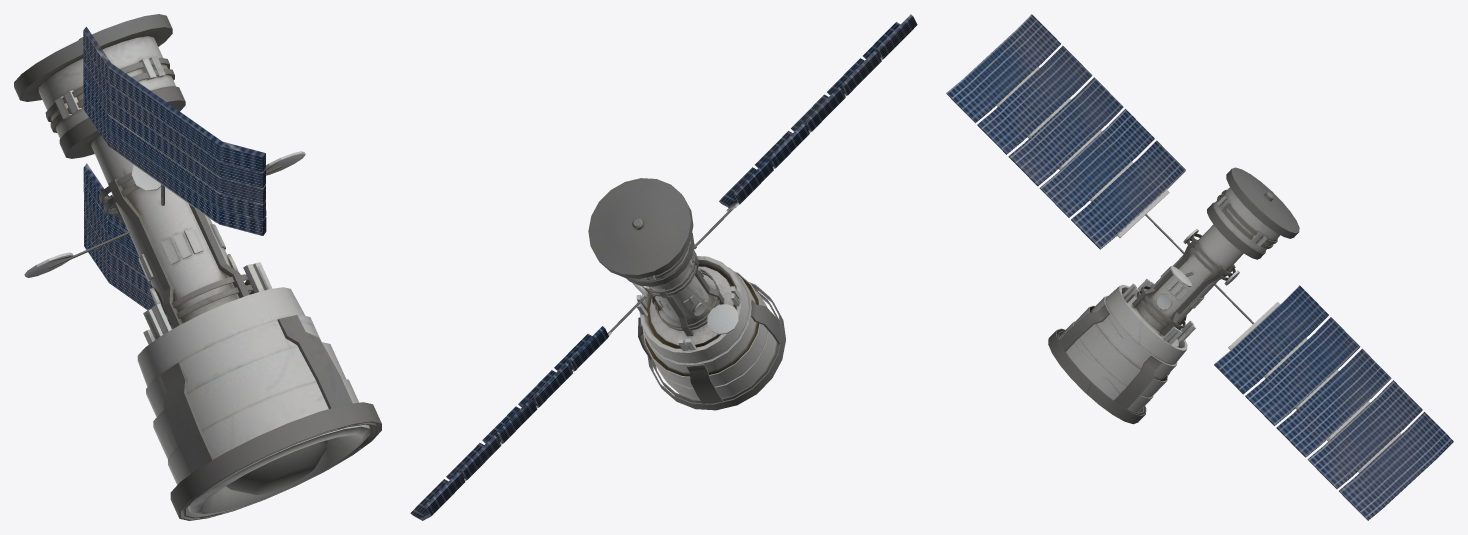
The model's file is relay.glb.
The picture shows the model from 3 angles, left to right: view 1: azimuth 30°, elevation 25°; view 2: azimuth 150°, elevation 25°; view 3: azimuth 270°, elevation 25°; orthographic projection. The views are drawn at different scales.
Visible parts, largest first — view 1: relay_0; view 2: relay_0; view 3: relay_0.
Boxes of the visible parts, left/top/right/bottom form: relay_0: left=14, top=14, right=381, bottom=520; relay_0: left=410, top=14, right=917, bottom=520; relay_0: left=946, top=14, right=1453, bottom=520.
Size of the model in its own units: 0.6115 by 0.8205 by 1.
Materials: 1 (1 with a texture image).
